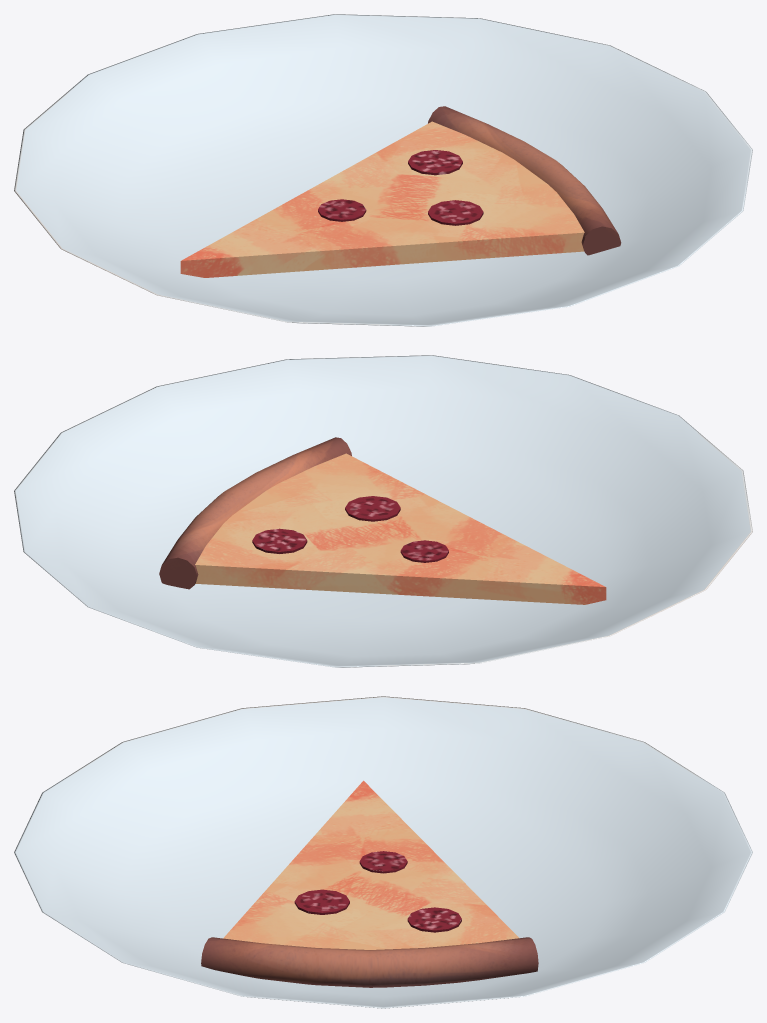
The model's file is pizza.fbx.
3 views of the same model, one above another, from view 1: azimuth 30°, elevation 25°; view 2: azimuth 150°, elevation 25°; view 3: azimuth 270°, elevation 25° (orthographic).
Parts seen in each view (by area): view 1: Line004; view 2: Line004; view 3: Line004.
Boxes of the visible parts, x1,y1,x2,y2 form: Line004: (14,14,752,326); Line004: (14,355,752,667); Line004: (14,696,752,1008).
Bounding box in the file's own units: 27.8 × 2.86 × 27.8.
1 material, 1 textured.
